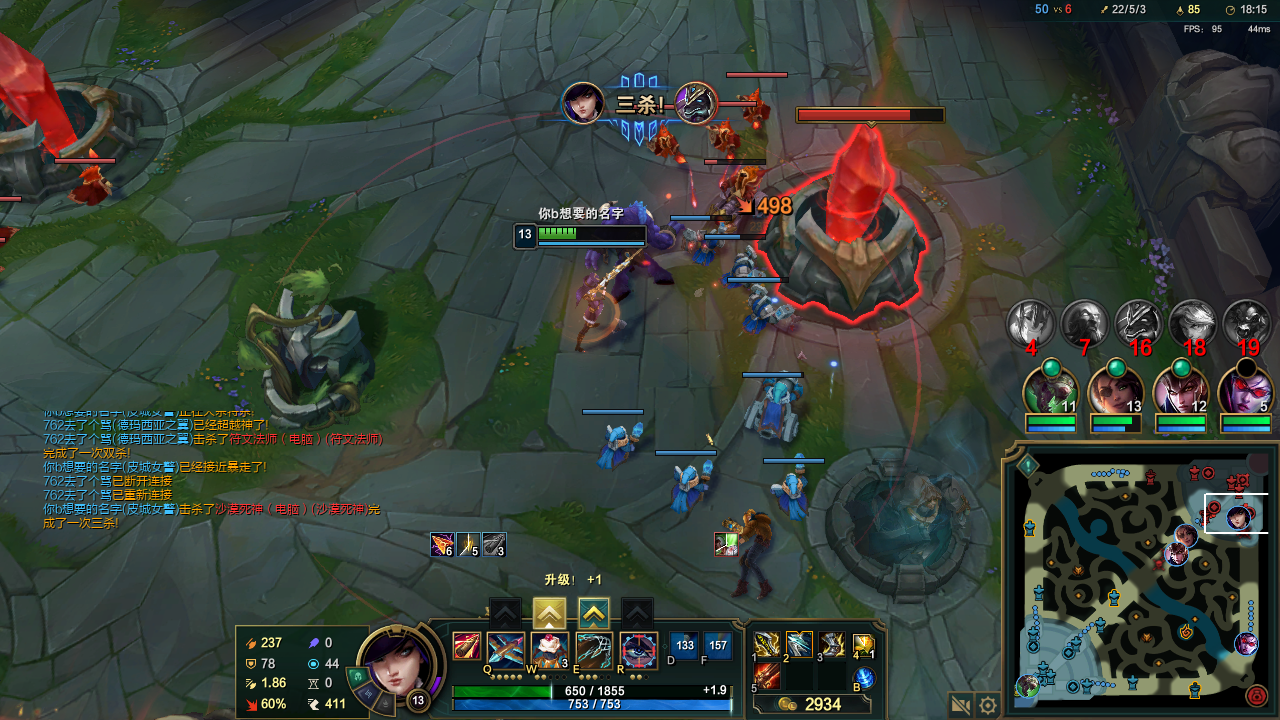DFSJ: (775, 107, 949, 313)
DFXB: (717, 168, 774, 224), (66, 171, 122, 213), (749, 91, 773, 129), (653, 139, 686, 165), (709, 130, 742, 153)
WFXB: (743, 383, 809, 446), (663, 469, 719, 514), (722, 244, 766, 285), (685, 224, 721, 270), (740, 285, 774, 330), (771, 469, 806, 512), (599, 431, 638, 462)
